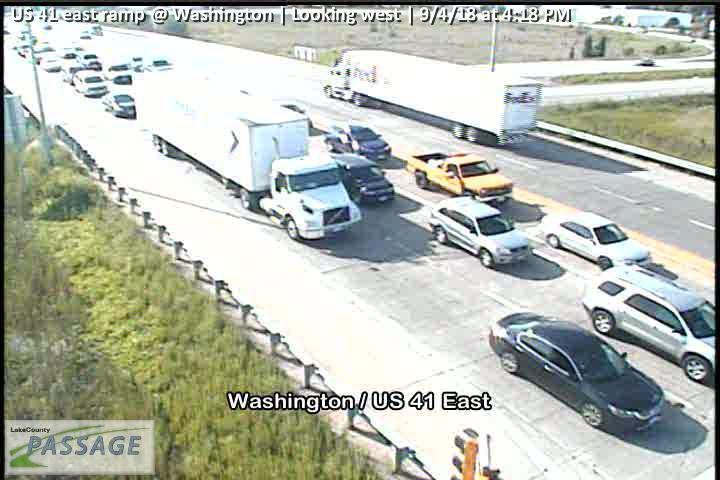SUV: (579, 264, 715, 382), (428, 196, 532, 268), (329, 149, 397, 206), (319, 123, 392, 165), (74, 69, 108, 98), (61, 63, 83, 83)
Sedan: (488, 308, 663, 436), (544, 209, 653, 272), (104, 92, 138, 119), (39, 57, 60, 72), (634, 57, 657, 68), (78, 28, 91, 41)
Truck: (139, 67, 366, 244), (321, 46, 543, 148), (402, 148, 514, 207)
